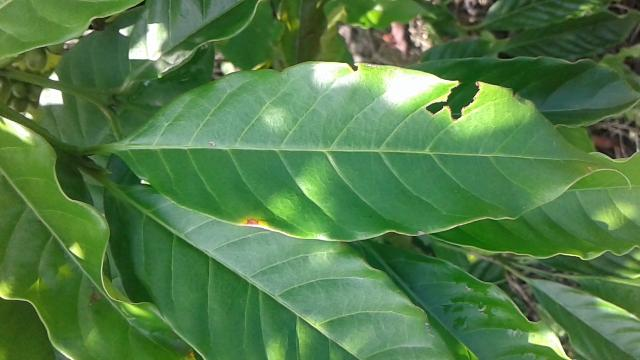rust_level_1: (110, 55, 640, 246)
